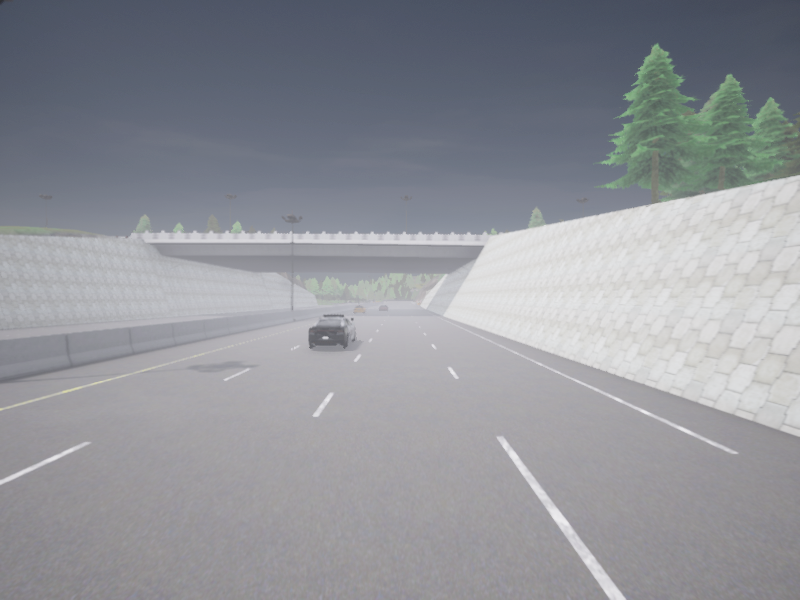vehicle: (308, 314, 354, 348), (354, 305, 365, 313), (379, 305, 388, 310)
